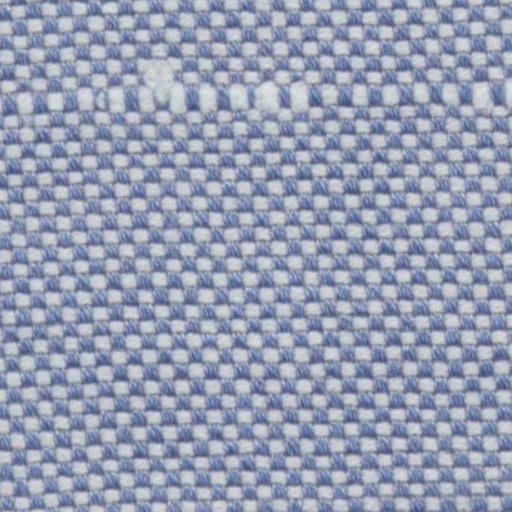DaiSha: (20, 55, 505, 128)
